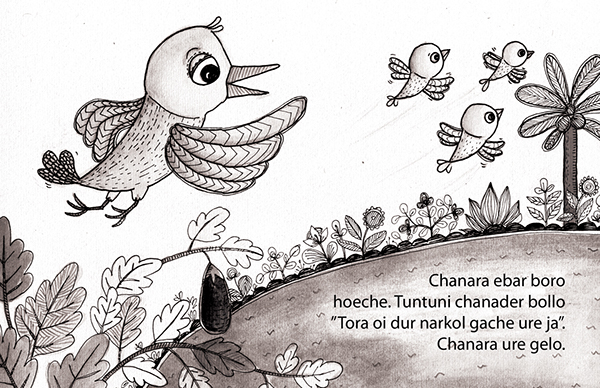bird: (33, 1, 317, 276), (377, 29, 455, 114), (438, 103, 507, 182), (480, 29, 537, 101)
